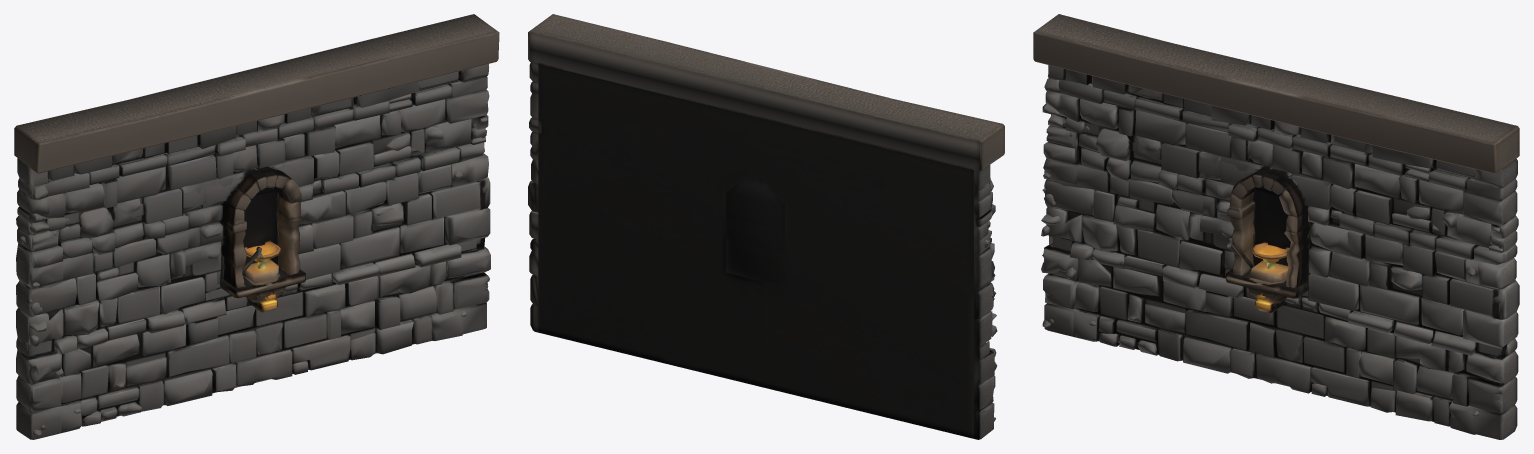
The model's file is muro_nicchia.glb.
3 renders of one model, left to right at view 1: azimuth 30°, elevation 25°; view 2: azimuth 150°, elevation 25°; view 3: azimuth 330°, elevation 25°, orthographic.
Visible parts, largest first — view 1: muro_nicchia; view 2: muro_nicchia; view 3: muro_nicchia.
Boxes of the visible parts, x1,y1,x2,y2 form: muro_nicchia: (14,14,499,439); muro_nicchia: (528,14,1004,439); muro_nicchia: (1033,14,1519,439).
Bounding box in the file's own units: 0.9995 × 0.6313 × 0.145.
1 material, 1 textured.
